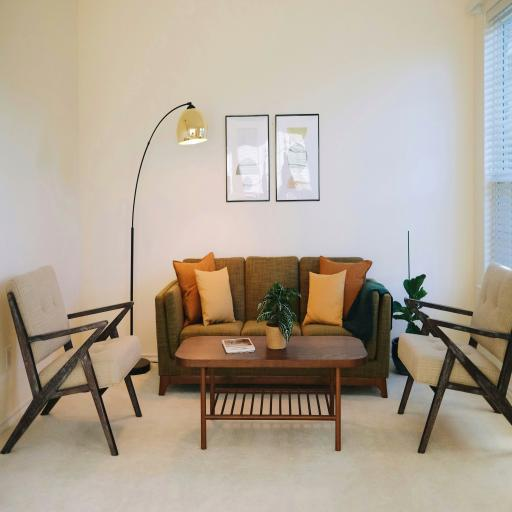chair: (0, 265, 142, 456), (397, 262, 512, 454)
desk: (175, 336, 367, 450)
sofa: (155, 256, 391, 398)
wall: (0, 0, 474, 433)
